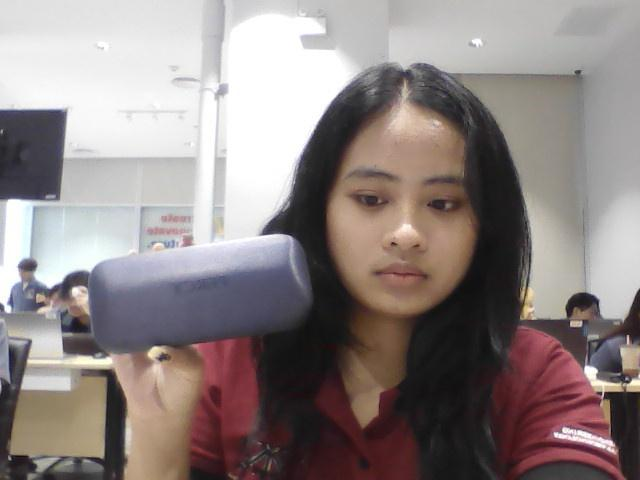glasses box: (81, 231, 330, 356)
